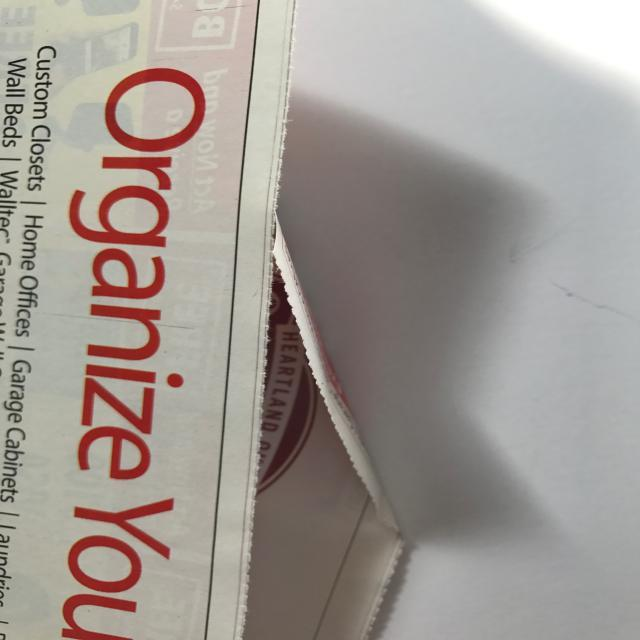paper: (0, 1, 412, 640)
